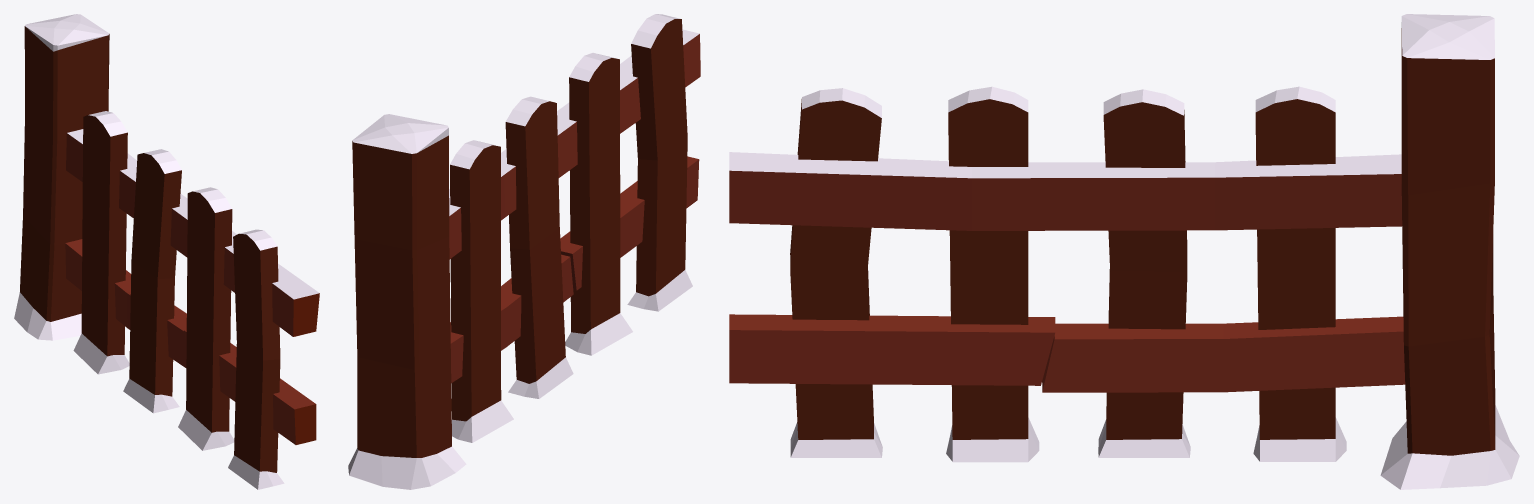
Rendered from winter_castle_item4.glb.
The picture shows the model from 3 angles, left to right: view 1: azimuth 30°, elevation 25°; view 2: azimuth 150°, elevation 25°; view 3: azimuth 270°, elevation 25°; orthographic projection. The views are drawn at different scales.
Visible parts, largest first — view 1: Item4_Medieval_0; view 2: Item4_Medieval_0; view 3: Item4_Medieval_0.
Part boxes in pixels (x1,y1,x2,y2): Item4_Medieval_0: [14, 14, 319, 489]; Item4_Medieval_0: [348, 14, 700, 489]; Item4_Medieval_0: [729, 14, 1519, 489].
Bounding box in the file's own units: 0.2133 × 0.7226 × 1.2.
Materials: 1 (1 with a texture image).
